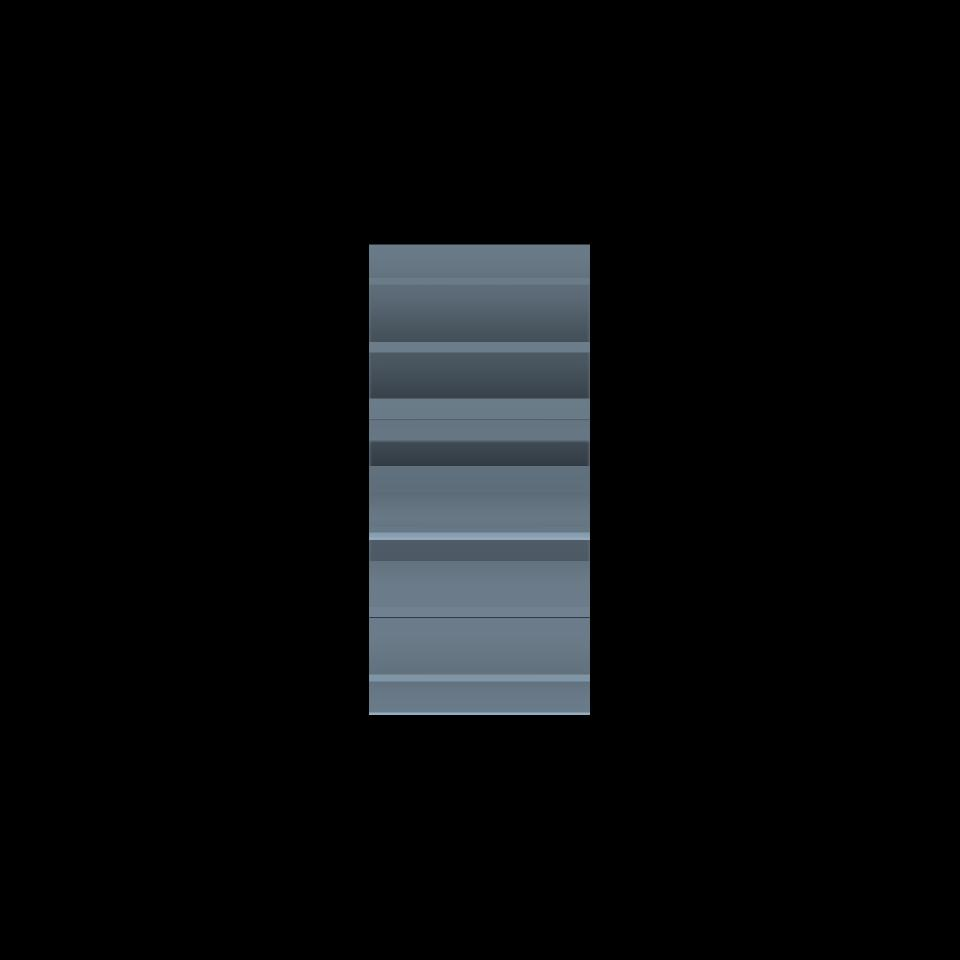Straight: (369, 244, 590, 715)
